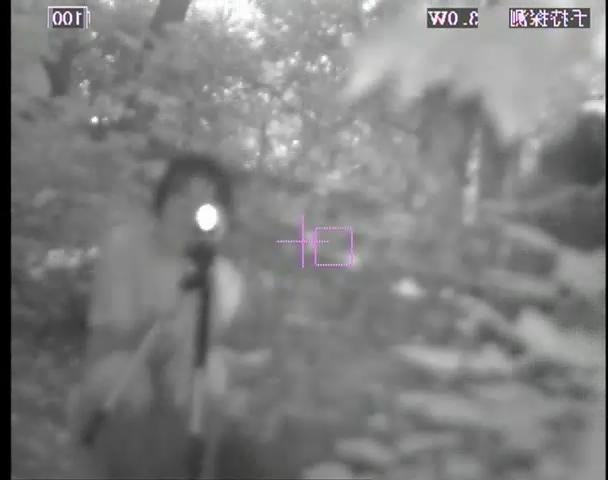my: (193, 202, 219, 231)
